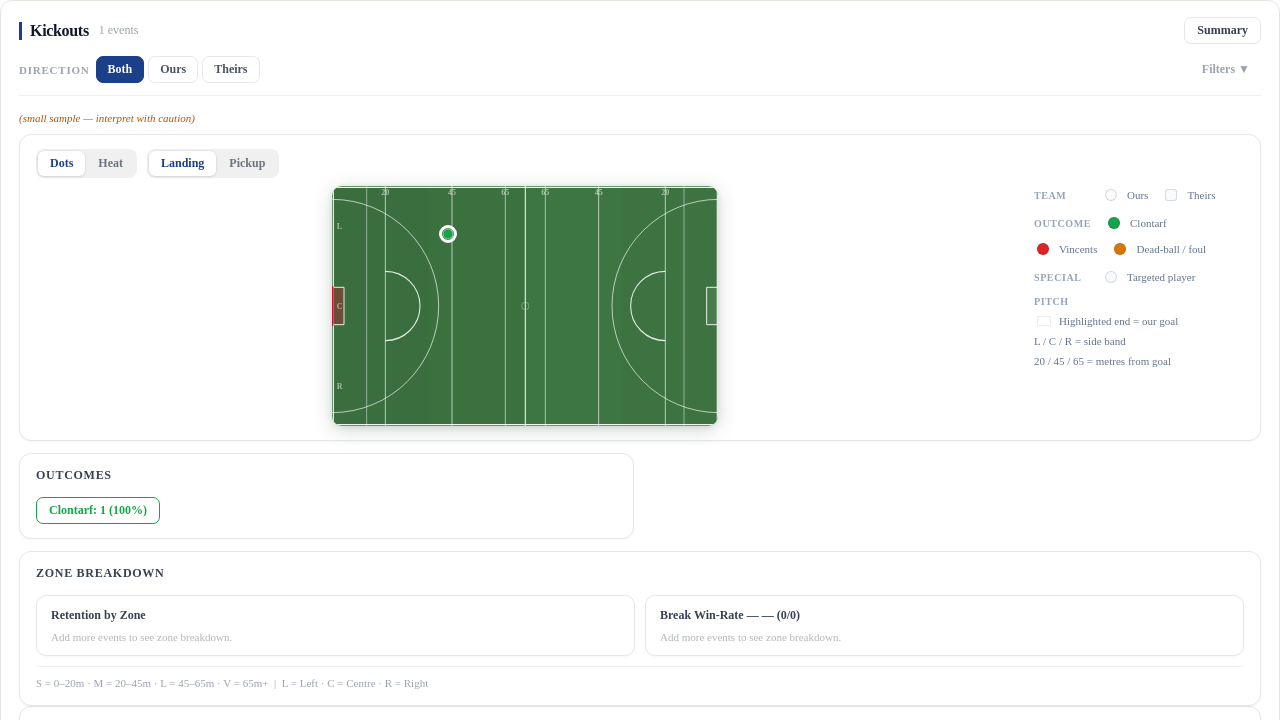
AnalyticsPanel legends › shows kickout landing and pickup toggles plus kickout heat labels when break events exist
Expected: the button "Landing" is shown, [149,151,216,176]
Expected: the button "Pickup" is shown, [217,151,277,176]
Click the button "Heat": coordinates (111, 164) [86,151,135,176]
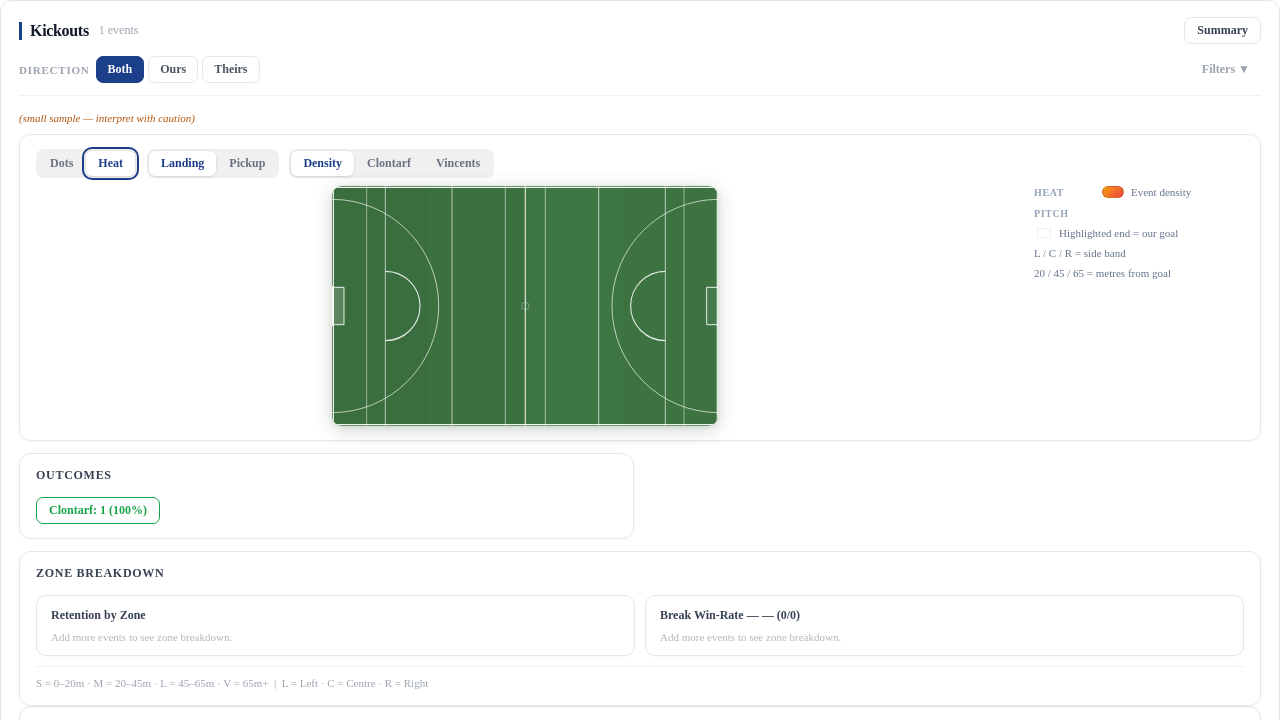
Expected: the button "Clontarf" is shown, [355,151,423,176]
Result: the button "Density" is shown at [291,151,354,176]
